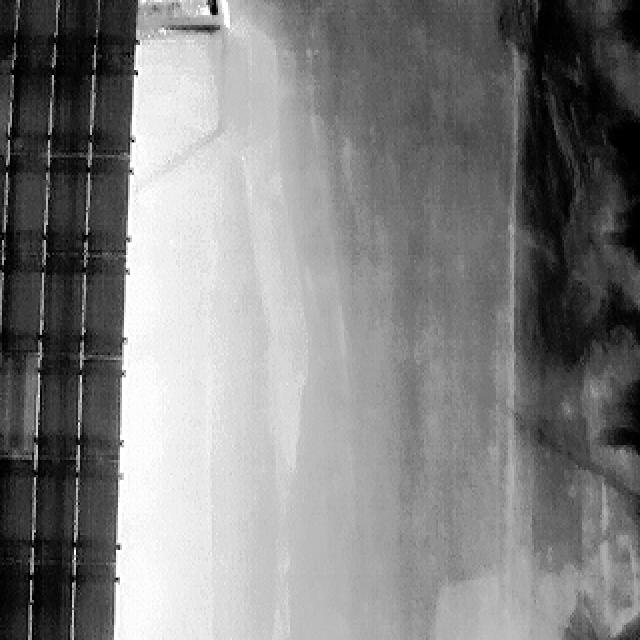PV-modules: (93, 49, 137, 156), (30, 454, 74, 560), (76, 460, 119, 568), (34, 358, 78, 462), (77, 358, 120, 462), (44, 252, 86, 358), (82, 256, 124, 360), (45, 156, 88, 255), (86, 158, 128, 258), (5, 154, 45, 257), (8, 55, 49, 154), (53, 56, 93, 155), (0, 257, 40, 355), (0, 347, 36, 455), (24, 562, 70, 640), (0, 456, 33, 562), (70, 565, 116, 640), (56, 0, 100, 61), (13, 0, 55, 61), (0, 560, 30, 640), (97, 0, 140, 52)
